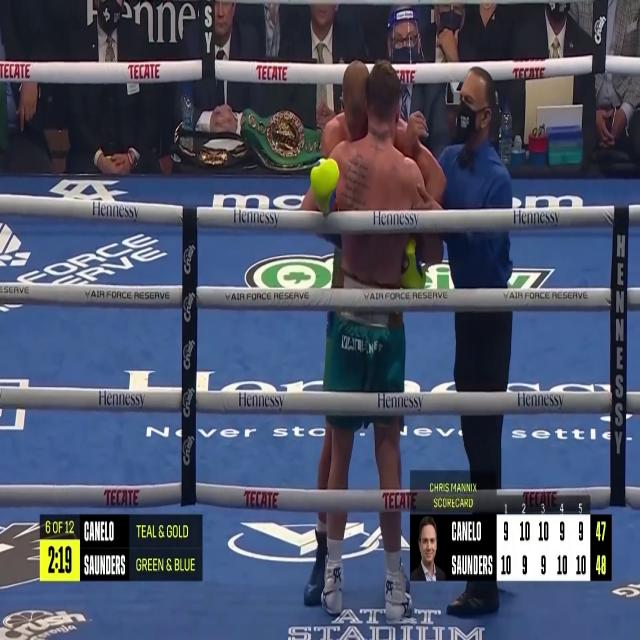boxer_1: (322, 59, 369, 155), (416, 142, 447, 202)
boxer_2: (332, 59, 430, 209), (342, 234, 407, 287)
gloves_1: (310, 157, 340, 215)
